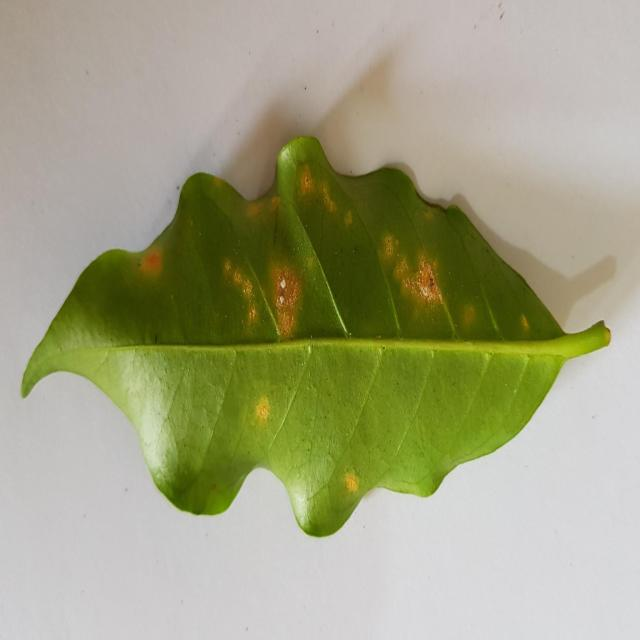rust: (386, 235, 444, 319), (295, 163, 353, 233), (266, 241, 303, 341), (220, 257, 264, 336), (252, 394, 285, 438), (139, 238, 168, 279), (458, 294, 482, 332), (244, 198, 268, 229), (343, 469, 361, 501)
